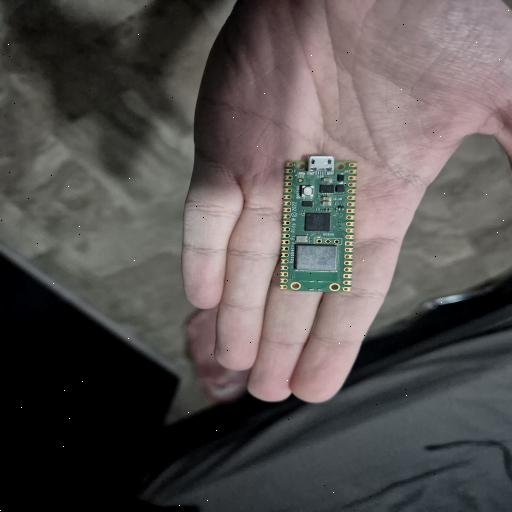raspberry-pi-pico-w: (279, 156, 357, 293)
